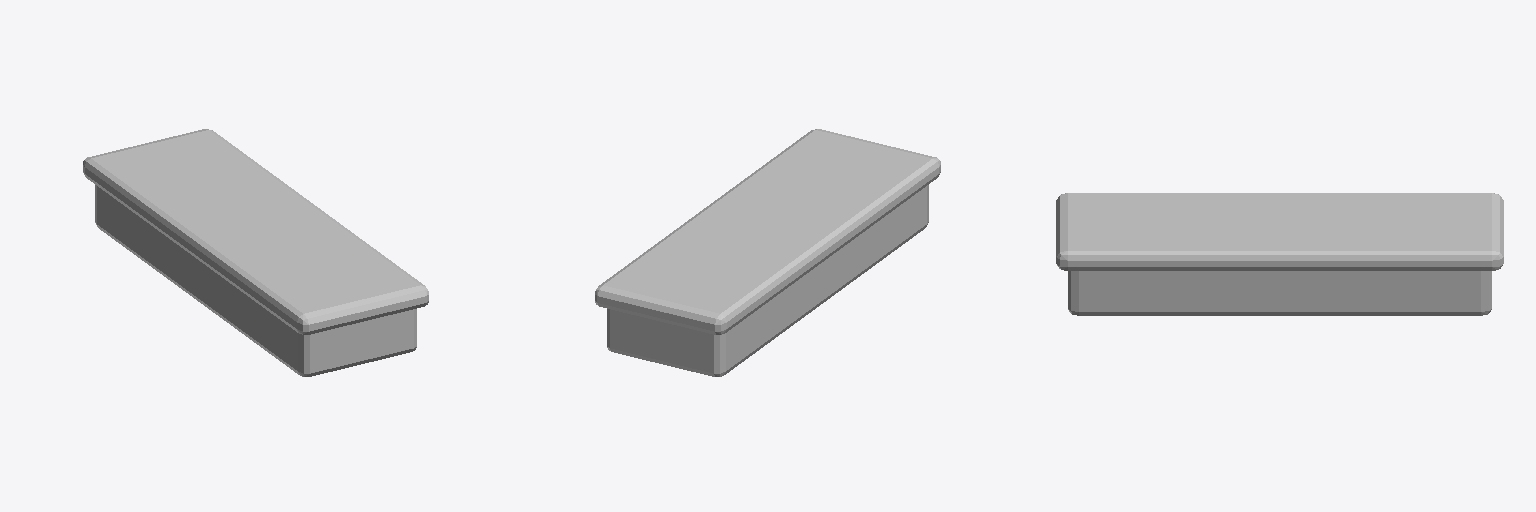
File: bigtable2.obj
The picture shows the model from 3 angles: view 1: azimuth 30°, elevation 25°; view 2: azimuth 150°, elevation 25°; view 3: azimuth 270°, elevation 25°; orthographic projection.
Visible parts, largest first — view 1: DeliveryCounter.Base; view 2: DeliveryCounter.Base; view 3: DeliveryCounter.Base.
Boxes of the visible parts, <box> form: DeliveryCounter.Base: <box>83,129,428,376</box>; DeliveryCounter.Base: <box>595,129,940,376</box>; DeliveryCounter.Base: <box>1056,193,1503,315</box>.
Size of the model in its own units: 1.37 by 0.6826 by 4.05.